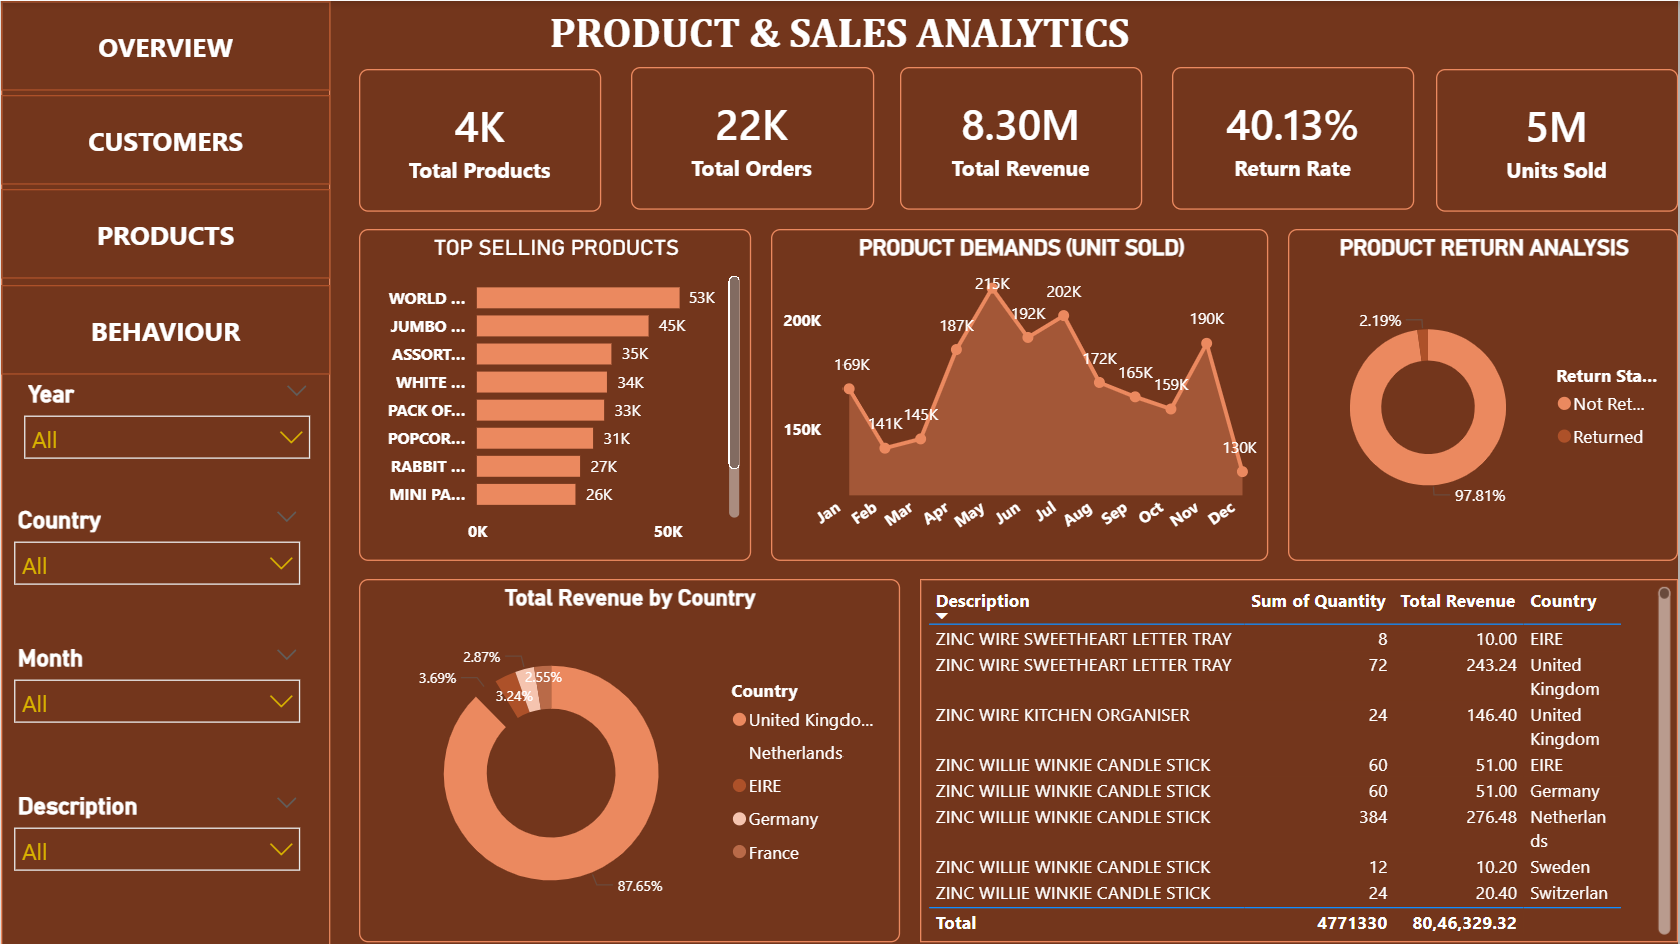

This screenshot's page, from the dashboard's own definition file:
{"tool":"powerbi","page":{"name":"PRODUCTS","canvas":[1280,720],"ordinal":2},"visuals":[{"type":"textbox","box":[0,0,1280,49.9],"z":0},{"type":"cardVisual","fields":{"Data":["data.Total Products"]},"box":[273.8,51.8,185,109.1],"z":1000},{"type":"cardVisual","fields":{"Data":["data.Total Orders"]},"box":[480.9,49.9,185,109.1],"z":2000},{"type":"cardVisual","fields":{"Data":["data.Total Revenue"]},"box":[686.2,49.9,185,109.1],"z":3000},{"type":"cardVisual","fields":{"Data":["data.Return Rate"]},"box":[893.4,49.9,185,109.1],"z":4000},{"type":"cardVisual","fields":{"Data":["data.Units Sold"]},"box":[1095,51.8,185,109.1],"z":5000},{"type":"clusteredBarChart","title":"TOP SELLING PRODUCTS","fields":{"Category":["data.Description"],"Y":["Sum(data.Quantity)"]},"box":[273.8,173.9,299.7,253.4],"z":6000},{"type":"lineChart","title":"PRODUCT DEMANDS (UNIT SOLD)","fields":{"Category":["data.Month"],"Y":["data.Units Sold"]},"box":[588.2,173.9,379.2,253.4],"z":7000},{"type":"donutChart","title":"PRODUCT RETURN ANALYSIS","fields":{"Category":["data.Return Status"],"Y":["CountNonNull(data.InvoiceNo)"]},"box":[982.2,173.9,297.8,253.4],"z":8000},{"type":"donutChart","fields":{"Category":["data.Country"],"Y":["data.Total Revenue"]},"box":[273.8,442.1,412.5,277.5],"z":9000},{"type":"tableEx","fields":{"Values":["data.Description","Sum(data.Quantity)","data.Total Revenue","data.Country"]},"box":[701,442.1,579,277.5],"z":10000},{"type":"shape","box":[0,0,251.6,723.2],"z":11000},{"type":"slicer","fields":{"Values":["data.Year"]},"box":[7.4,284.9,238.6,96.2],"z":12000},{"type":"slicer","fields":{"Values":["data.Country"]},"box":[0,381,238.6,81.4],"z":13000},{"type":"slicer","fields":{"Values":["data.Month"]},"box":[0,486.5,238.6,77.7],"z":14000},{"type":"slicer","fields":{"Values":["data.Description"]},"box":[0,599.3,238.6,90.6],"z":15000},{"type":"actionButton","box":[0,0,251.6,68.4],"z":16000},{"type":"actionButton","box":[0,72.1,251.6,68.4],"z":17000},{"type":"actionButton","box":[0,144.3,251.6,68.4],"z":18000},{"type":"actionButton","box":[0,216.4,251.6,68.4],"z":19000}]}

Visuals, with their boxes in screenshot pixels (x1, y1, x2, y2), scaled from the page's 1280x720 canvas onto the 1680x944 screenshot:
textbox: <bbox>0, 0, 1679, 65</bbox>
cardVisual - data.Total Products: <bbox>359, 68, 602, 211</bbox>
cardVisual - data.Total Orders: <bbox>631, 65, 874, 208</bbox>
cardVisual - data.Total Revenue: <bbox>901, 65, 1143, 208</bbox>
cardVisual - data.Return Rate: <bbox>1173, 65, 1415, 208</bbox>
cardVisual - data.Units Sold: <bbox>1437, 68, 1679, 211</bbox>
"TOP SELLING PRODUCTS" clusteredBarChart: <bbox>359, 228, 753, 560</bbox>
"PRODUCT DEMANDS (UNIT SOLD)" lineChart: <bbox>772, 228, 1270, 560</bbox>
"PRODUCT RETURN ANALYSIS" donutChart: <bbox>1289, 228, 1679, 560</bbox>
donutChart - data.Country x data.Total Revenue: <bbox>359, 580, 901, 943</bbox>
tableEx - data.Description x Sum(data.Quantity): <bbox>920, 580, 1679, 943</bbox>
shape: <bbox>0, 0, 330, 943</bbox>
slicer - data.Year: <bbox>10, 374, 323, 500</bbox>
slicer - data.Country: <bbox>0, 500, 313, 606</bbox>
slicer - data.Month: <bbox>0, 638, 313, 740</bbox>
slicer - data.Description: <bbox>0, 786, 313, 905</bbox>
actionButton: <bbox>0, 0, 330, 90</bbox>
actionButton: <bbox>0, 95, 330, 184</bbox>
actionButton: <bbox>0, 189, 330, 279</bbox>
actionButton: <bbox>0, 284, 330, 373</bbox>
